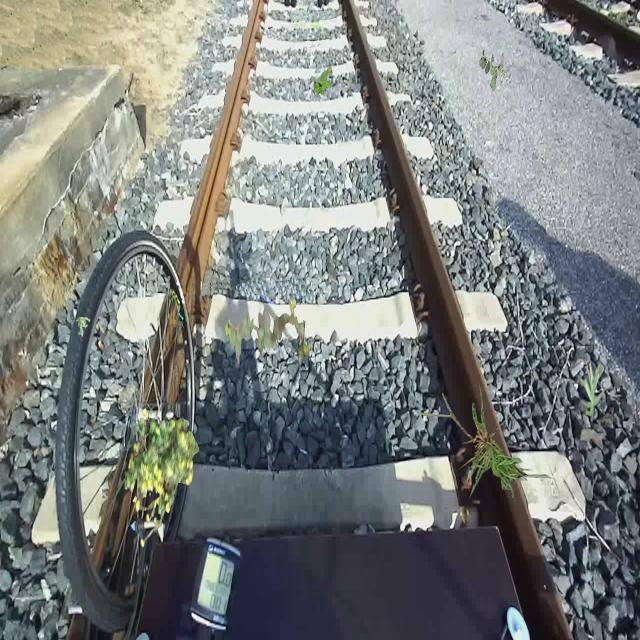Plant: (418, 382, 562, 502), (125, 408, 200, 548), (224, 298, 310, 366), (580, 360, 606, 417), (152, 438, 178, 494), (479, 51, 506, 92), (313, 66, 332, 98), (77, 317, 91, 338)
